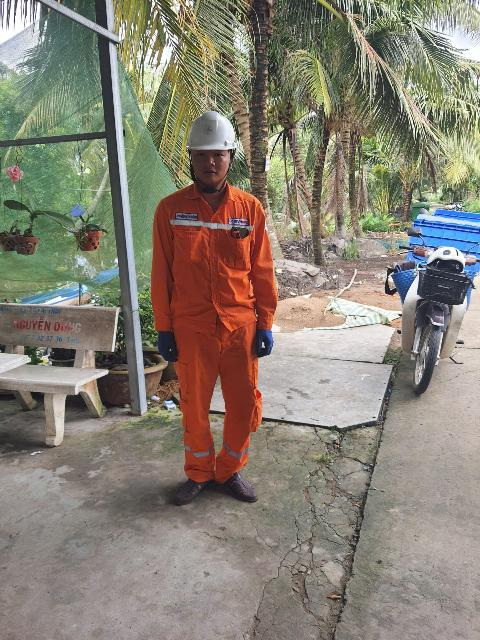gloves: (253, 316, 285, 367), (151, 326, 187, 368)
helmet: (174, 109, 245, 160)
shoes: (162, 450, 213, 515), (217, 462, 263, 507)
